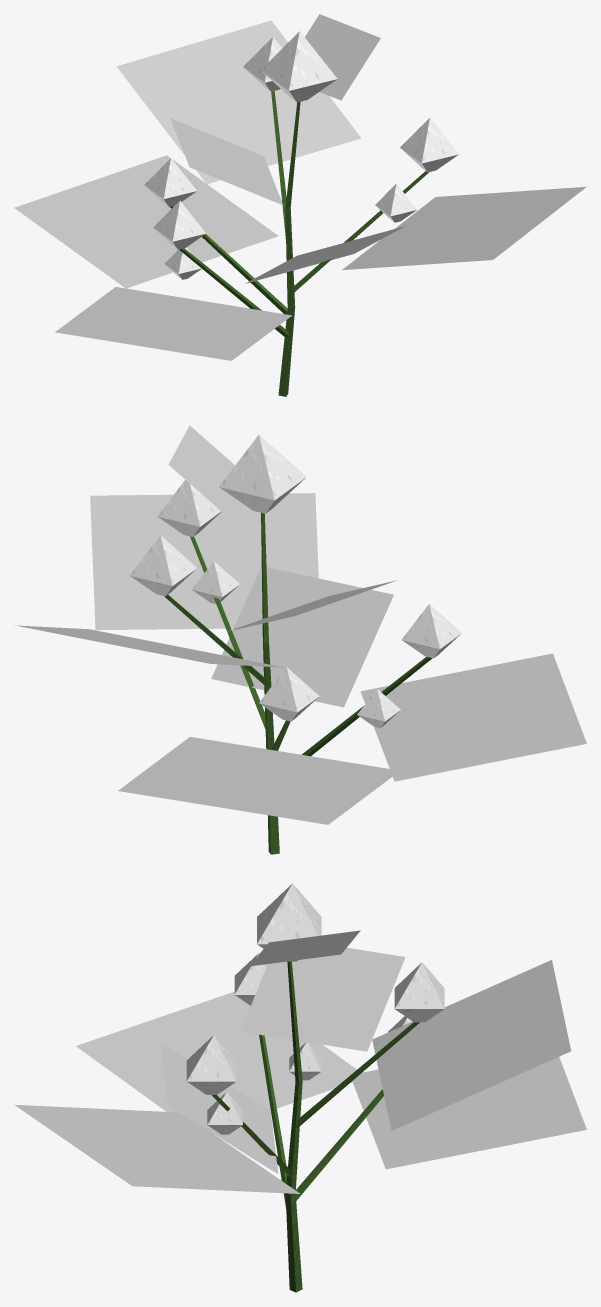
File: plant_3_0_2_lod.obj
3 views of the same model, one above another, from view 1: azimuth 30°, elevation 25°; view 2: azimuth 150°, elevation 25°; view 3: azimuth 270°, elevation 25° (orthographic). The views are drawn at different scales.
Visible parts, largest first — view 1: model; view 2: model; view 3: model.
Part boxes in pixels (x1,y1,x2,y2): model: (14, 14, 586, 396); model: (15, 425, 586, 854); model: (14, 883, 586, 1292).
Size of the model in its own units: 1.24 by 0.8834 by 1.11.
